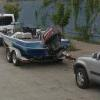Boat: (1, 22, 66, 68)
